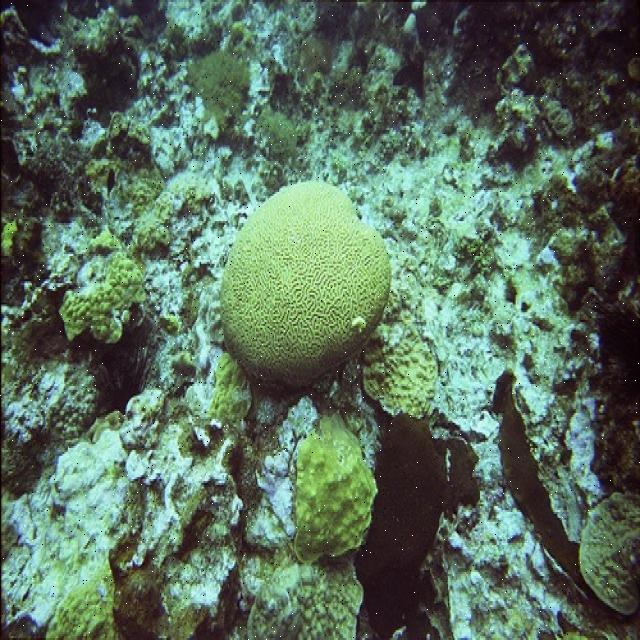reefs: (220, 179, 392, 391)
